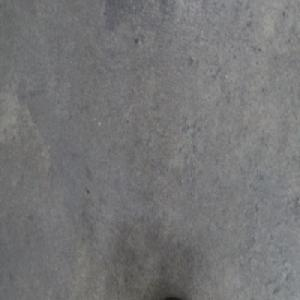AdjustableWrench: (156, 286, 191, 298)
